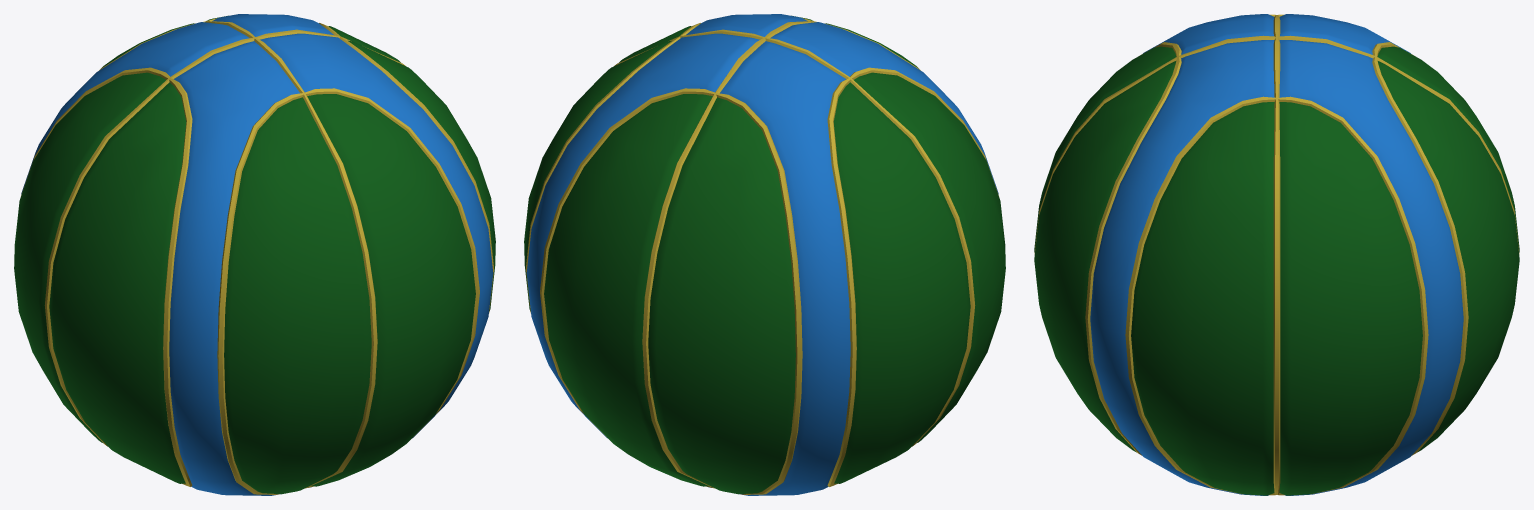
Rendered from Basketball.FBX.
3 renders of one model, left to right at view 1: azimuth 30°, elevation 25°; view 2: azimuth 150°, elevation 25°; view 3: azimuth 270°, elevation 25°, orthographic.
Visible parts, largest first — view 1: Basketball; view 2: Basketball; view 3: Basketball.
Part boxes in pixels (x1,y1,x2,y2): Basketball: (14, 14, 495, 495); Basketball: (524, 14, 1005, 495); Basketball: (1034, 14, 1519, 495).
Bounding box in the file's own units: 984 × 984 × 977.
